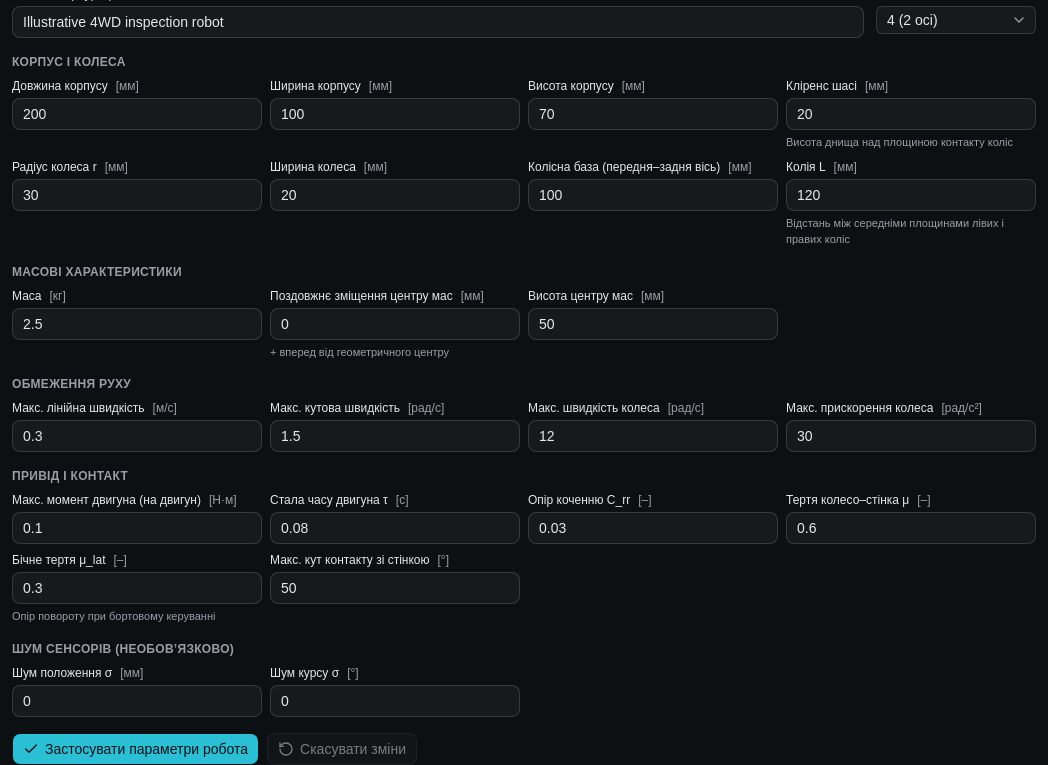
Test case: RobotForm › maps server-side validation issues back to fields
(page scrolled)
Click the button "Застосувати параметри робота". click: point(136, 748)
box: [12, 732, 259, 764]
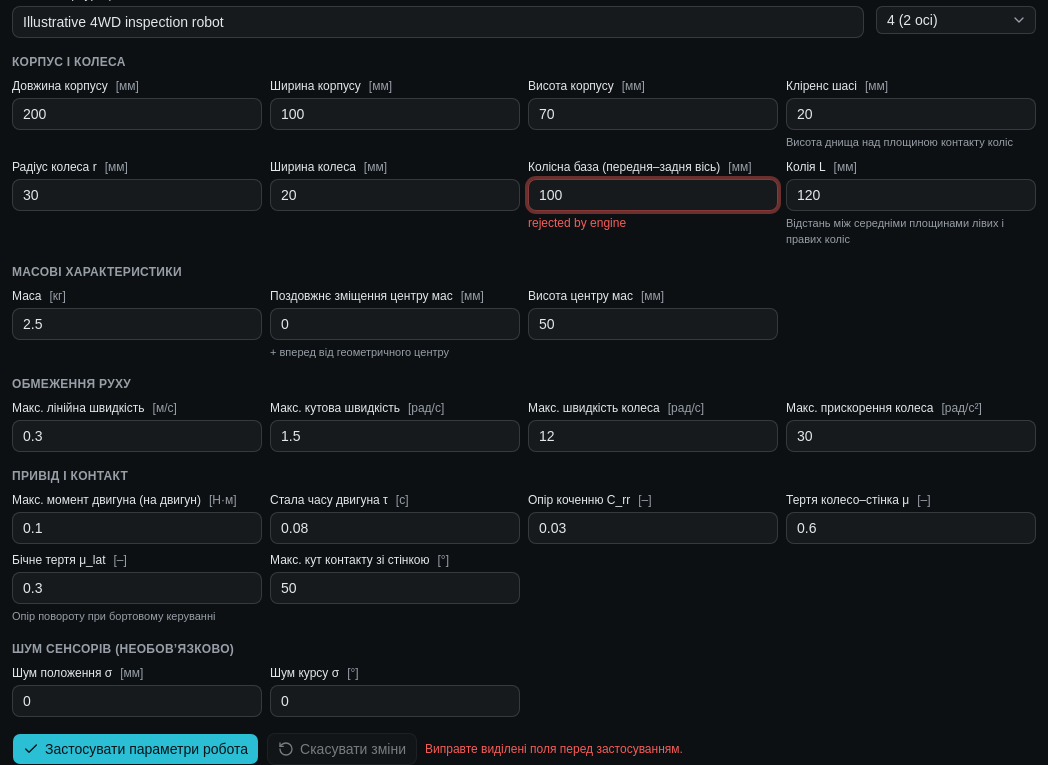
Expected: the text "rejected by engine" is shown, [528, 216, 626, 230]
